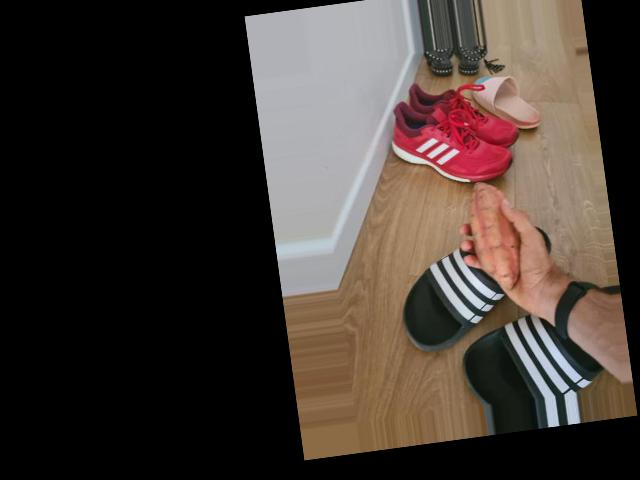sweet_potato: (463, 178, 523, 293)
